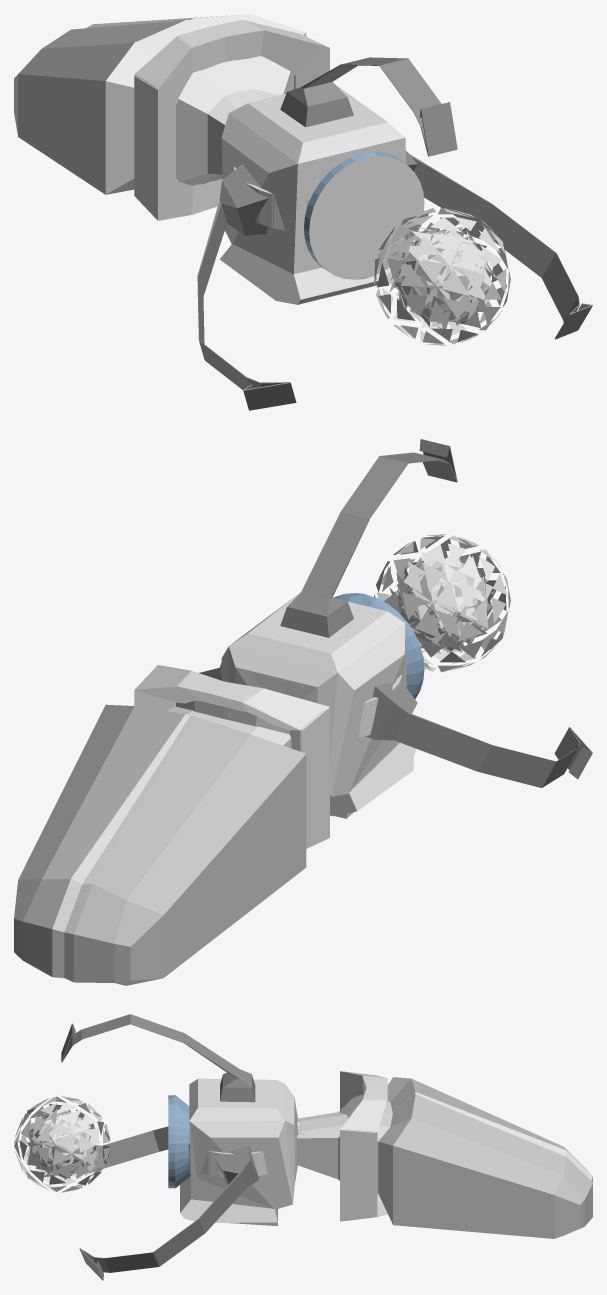
Rendered from Gun.fbx.
The picture shows the model from 3 angles, top to bottom: view 1: azimuth 30°, elevation 25°; view 2: azimuth 150°, elevation 25°; view 3: azimuth 270°, elevation 25°; orthographic projection. The views are drawn at different scales.
Parts seen in each view (by area): view 1: Cube, Icosphere, Icosphere.001; view 2: Cube, Icosphere, Icosphere.001; view 3: Cube, Icosphere, Icosphere.001.
Boxes of the visible parts, x1,y1,x2,y2 form: Cube: (14, 14, 592, 410); Icosphere: (374, 207, 510, 345); Icosphere.001: (389, 223, 496, 331); Cube: (14, 439, 592, 985); Icosphere: (374, 534, 510, 672); Icosphere.001: (389, 548, 495, 656); Cube: (61, 1014, 592, 1280); Icosphere: (14, 1096, 110, 1192); Icosphere.001: (26, 1106, 101, 1182).
Bounding box in the file's own units: 125 × 97.93 × 250.
